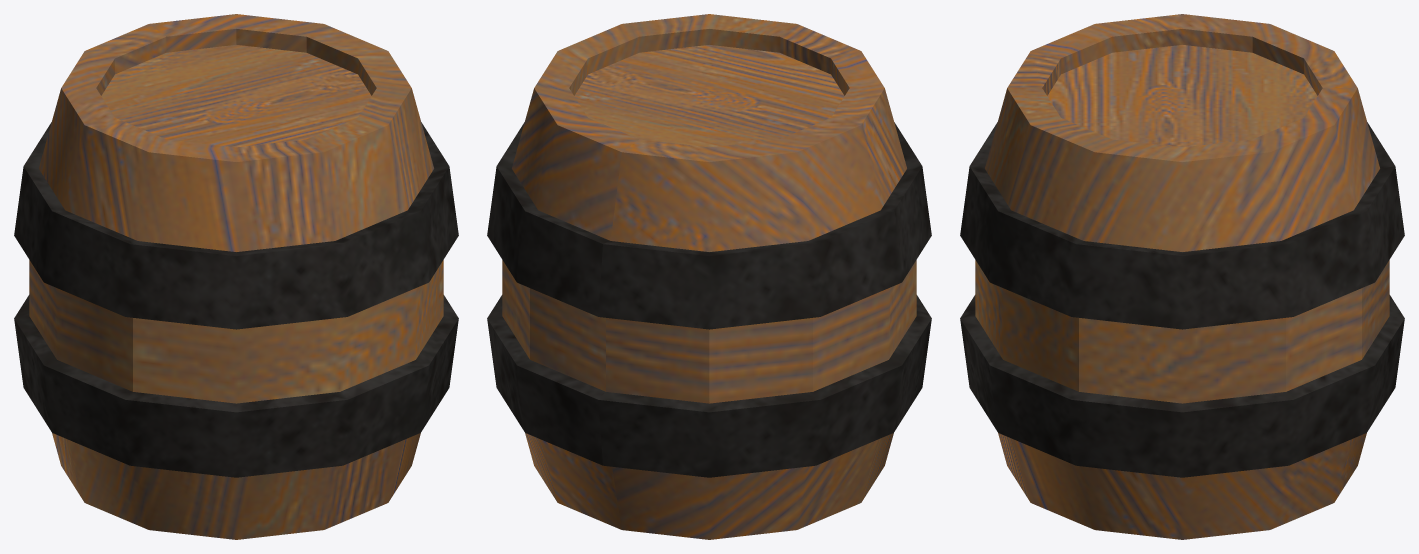
The model's file is Barrel.fbx.
The picture shows the model from 3 angles, left to right: view 1: azimuth 30°, elevation 25°; view 2: azimuth 150°, elevation 25°; view 3: azimuth 270°, elevation 25°; orthographic projection.
Parts seen in each view (by area): view 1: Wood Barrel; view 2: Wood Barrel; view 3: Wood Barrel.
Part boxes in pixels (x1=…): Wood Barrel: x1=14, y1=14, x2=458, y2=539; Wood Barrel: x1=487, y1=14, x2=931, y2=539; Wood Barrel: x1=960, y1=14, x2=1404, y2=539.
Size of the model in its own units: 98.94 by 92.72 by 98.94.
